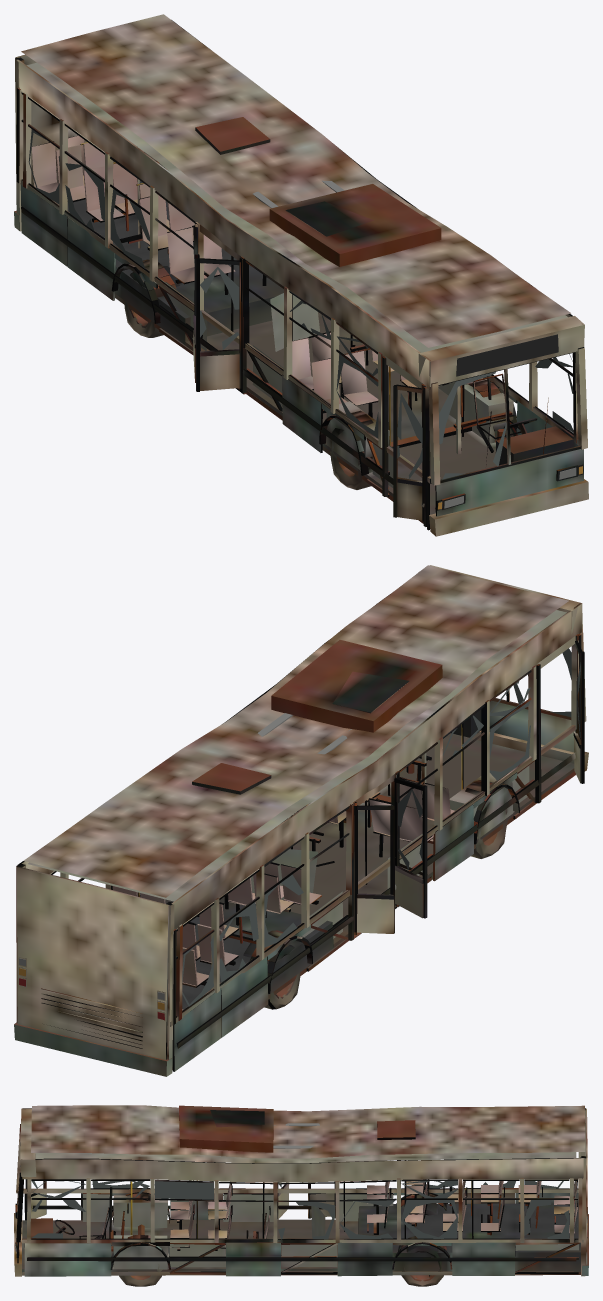
The model's file is wrecked-bus.glb.
3 views of the same model, one above another, from view 1: azimuth 30°, elevation 25°; view 2: azimuth 150°, elevation 25°; view 3: azimuth 270°, elevation 25° (orthographic). The views are drawn at different scales.
Visible parts, largest first — view 1: body, fittings; view 2: body, fittings; view 3: body, fittings.
Boxes of the visible parts, bbox=[...] form: body: bbox=[14, 14, 588, 536]; fittings: bbox=[28, 129, 582, 509]; body: bbox=[14, 565, 588, 1076]; fittings: bbox=[19, 648, 580, 1020]; body: bbox=[14, 1105, 588, 1286]; fittings: bbox=[15, 1123, 587, 1256].
Size of the model in its own units: 3.25 by 3.24 by 12.14.
6 materials, 1 textured.
